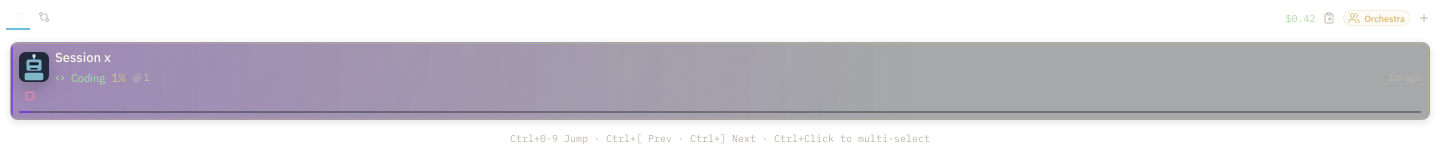
Scenario: AgentInspector tab routing › diffs tab does not also render the parallel-pane fallback
The width and height of the screenshot is (1440, 161).
Step 1. Click the button named "File diffs" → (44, 18), box [32,6,56,30]
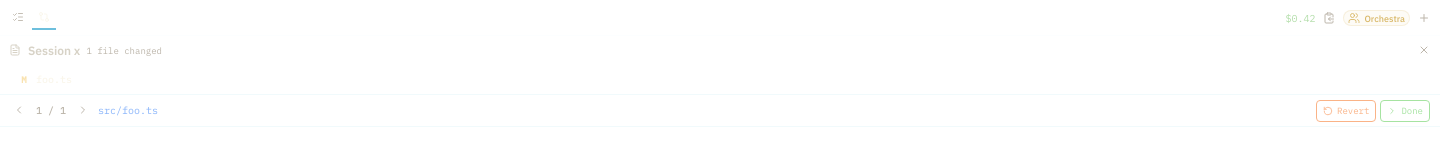
Now the text "src/foo.ts" is shown, box [98,104,158,117]
